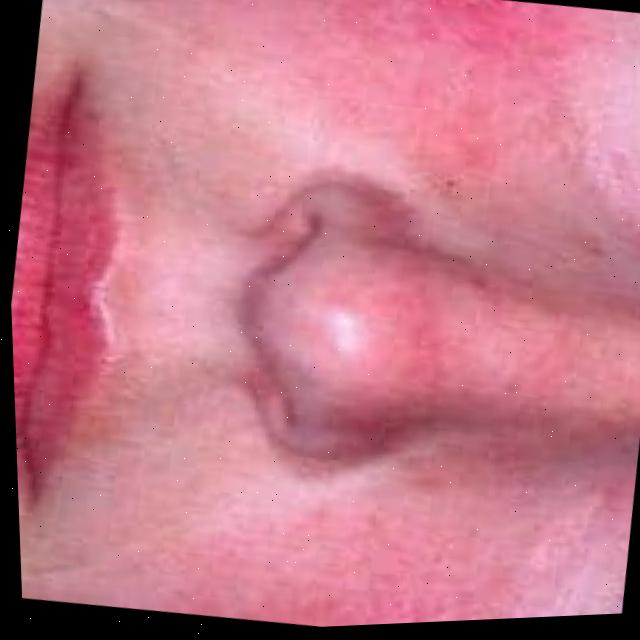Rosacea: (275, 0, 640, 628)
